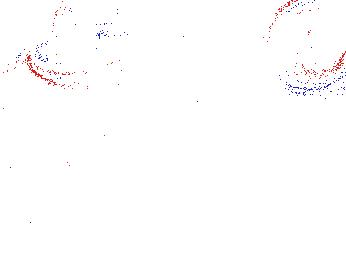moon jellyfish: (266, 1, 346, 91), (28, 33, 134, 92)
